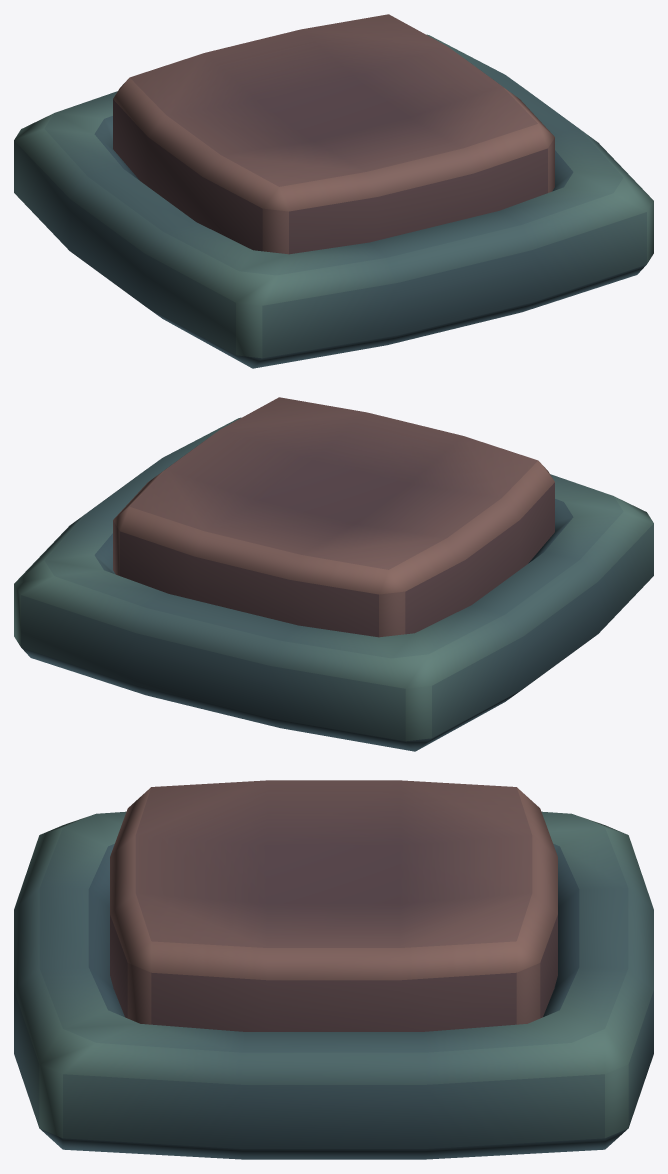
Rendered from switch_01_LOD_setup.fbx.
3 views of the same model, one above another, from view 1: azimuth 30°, elevation 25°; view 2: azimuth 150°, elevation 25°; view 3: azimuth 270°, elevation 25° (orthographic). The views are drawn at different scales.
Parts seen in each view (by area): view 1: switch_01_LOD0, switch_plate_LOD0; view 2: switch_01_LOD0, switch_plate_LOD0; view 3: switch_01_LOD0, switch_plate_LOD0.
Boxes of the visible parts, left/top/right/bottom form: switch_01_LOD0: left=14, top=34, right=653, bottom=368; switch_plate_LOD0: left=113, top=14, right=554, bottom=254; switch_01_LOD0: left=14, top=417, right=653, bottom=751; switch_plate_LOD0: left=113, top=397, right=554, bottom=637; switch_01_LOD0: left=14, top=811, right=653, bottom=1159; switch_plate_LOD0: left=110, top=780, right=557, bottom=1031.
Size of what is drawn, in the model's own units: 136 by 40 by 136.
